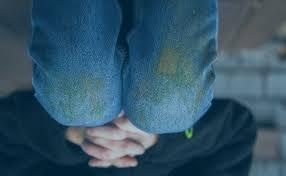earth: (63, 80, 104, 114), (160, 54, 191, 78)
